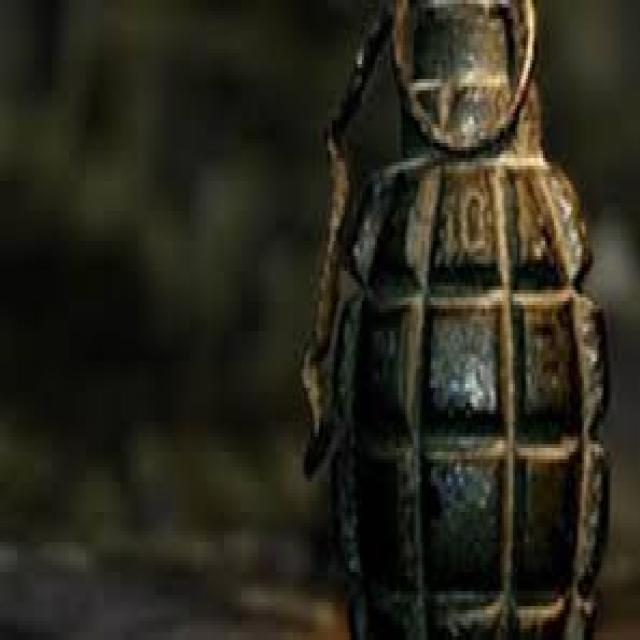grenade: (287, 1, 627, 640)
